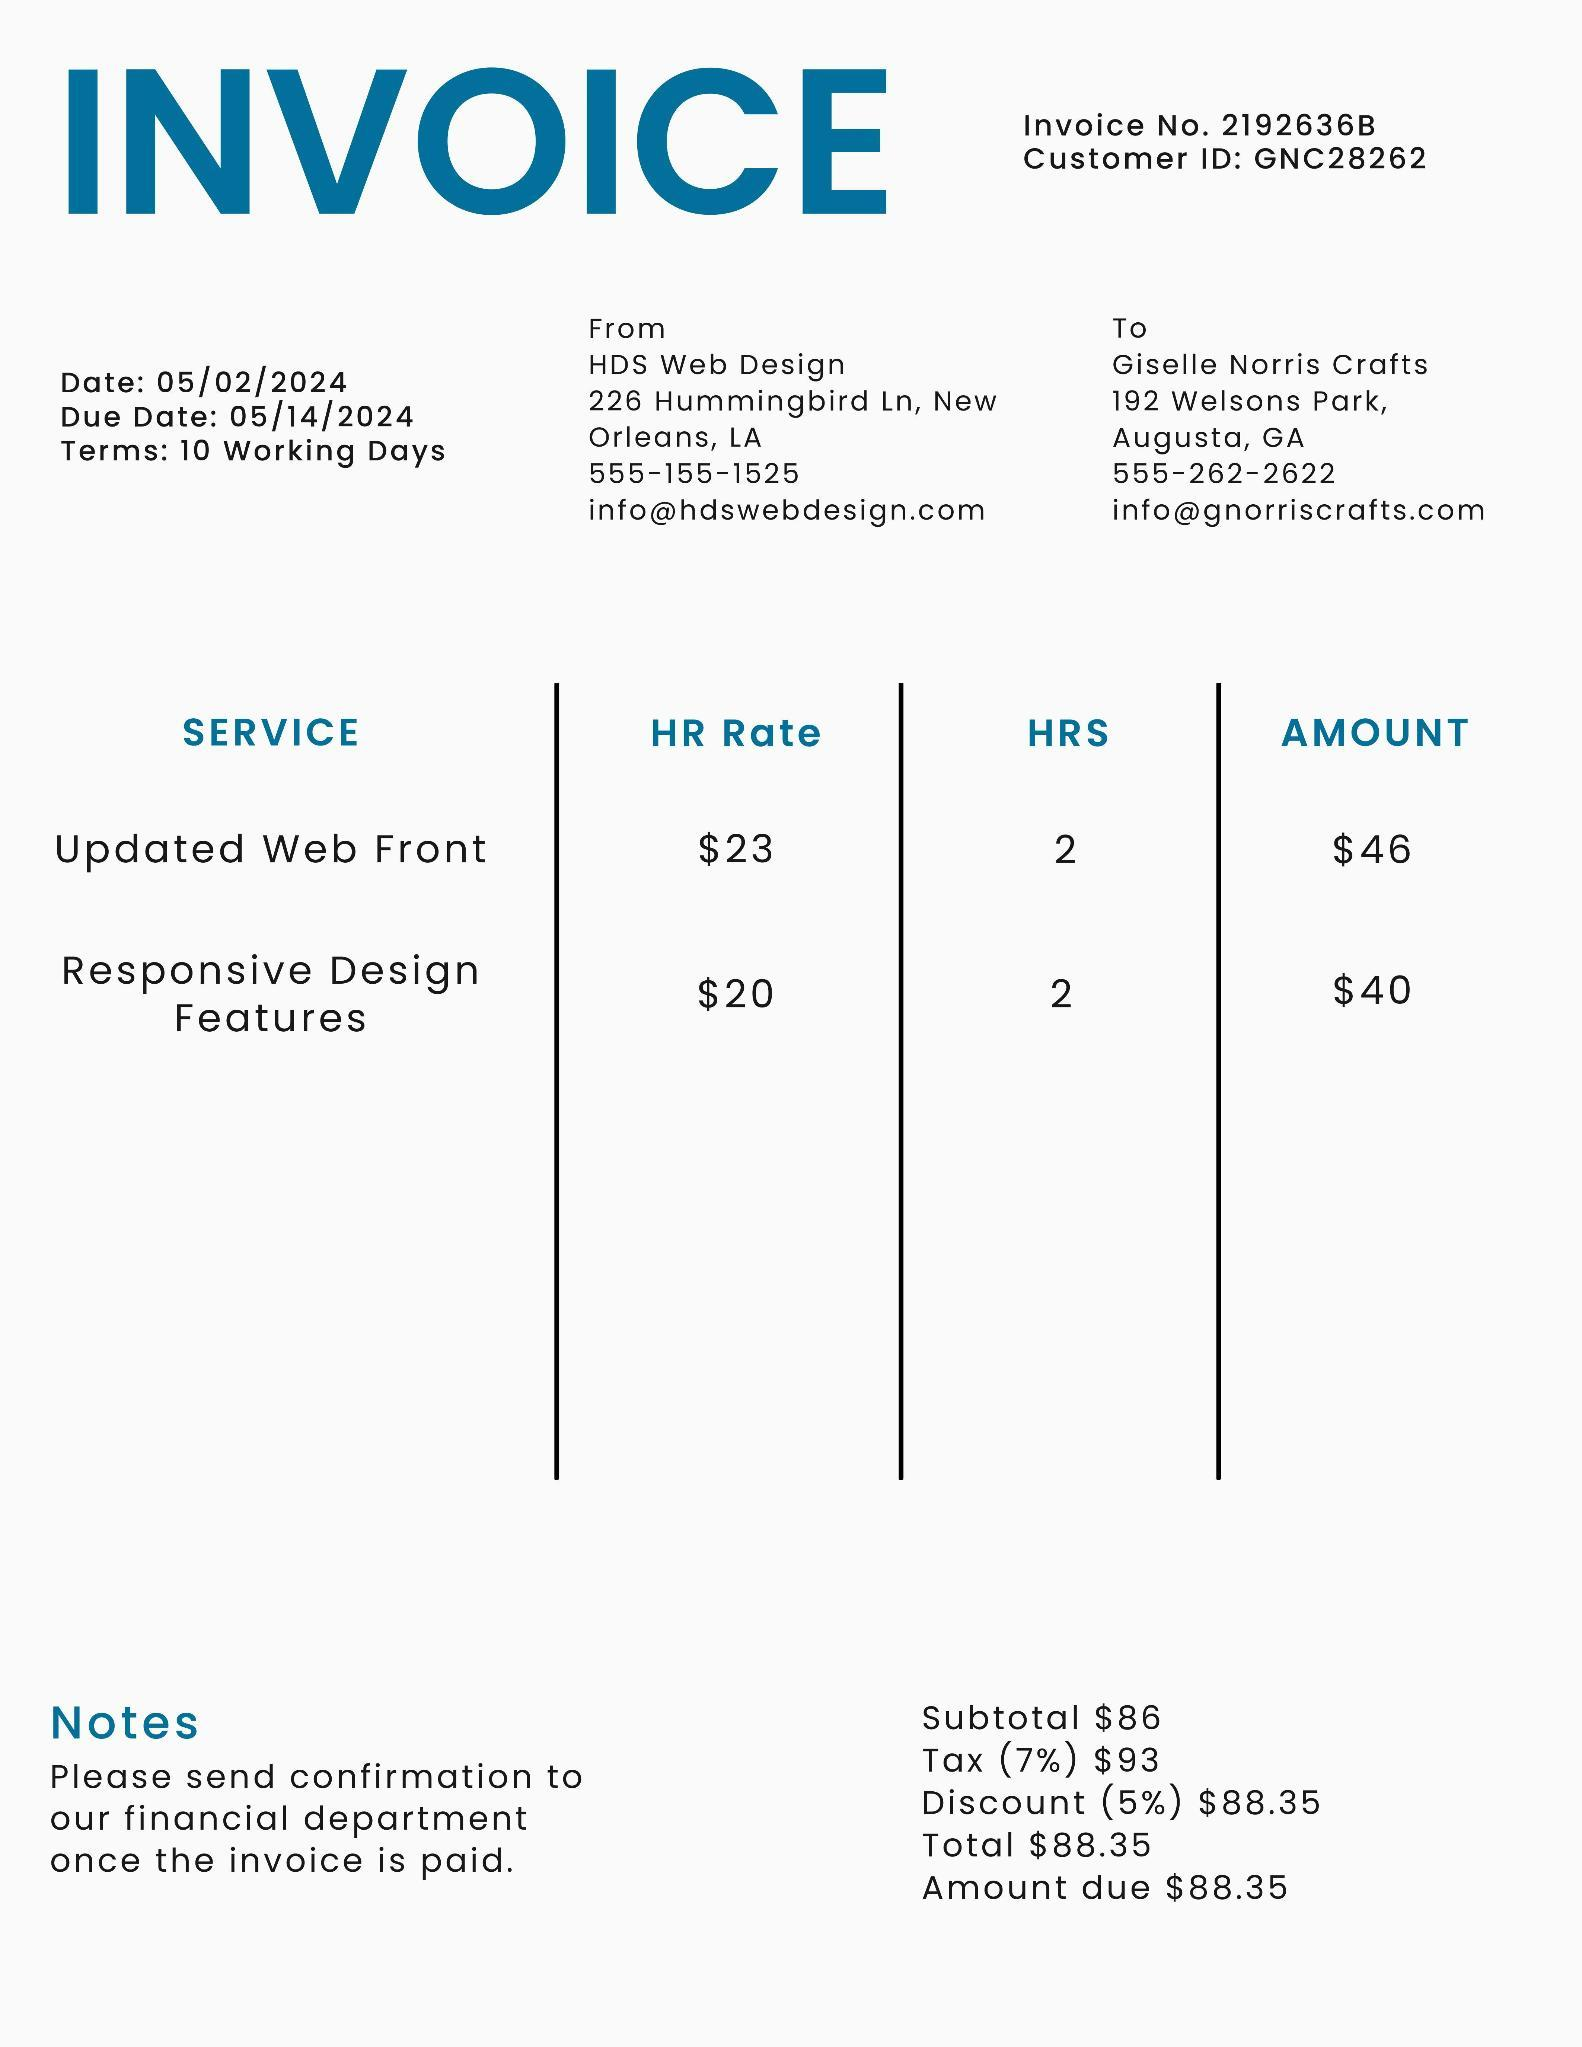ROI: (30, 684, 1515, 1103), (57, 60, 910, 244), (52, 1702, 596, 1907), (581, 310, 1014, 549), (907, 1700, 1334, 1934), (1093, 305, 1507, 535), (50, 349, 460, 497), (1018, 113, 1449, 191)
